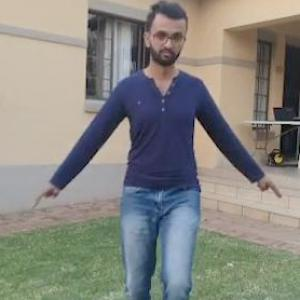land: (97, 53, 224, 271)
